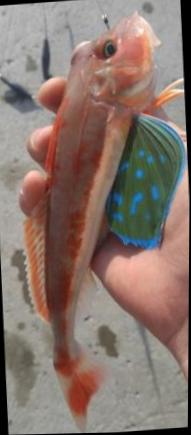fish: (23, 12, 186, 433)
